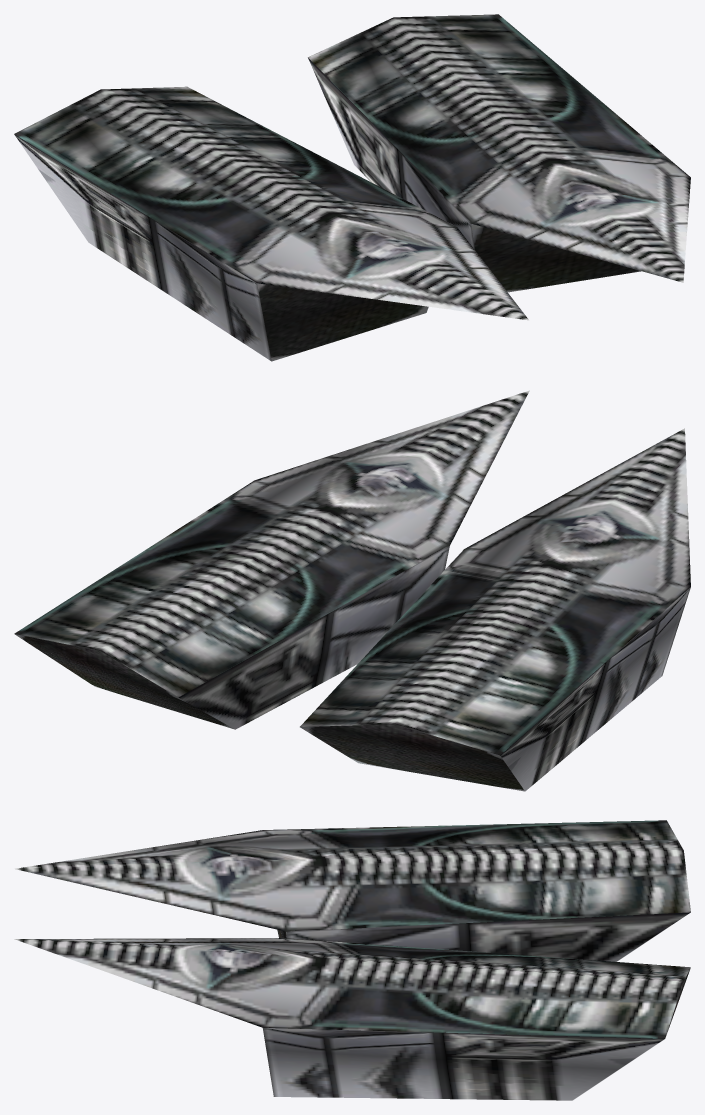
The model's file is ArmPads6__EC.glb.
3 views of the same model, one above another, from view 1: azimuth 30°, elevation 25°; view 2: azimuth 150°, elevation 25°; view 3: azimuth 270°, elevation 25° (orthographic). The views are drawn at different scales.
Parts seen in each view (by area): view 1: ArmPads6; view 2: ArmPads6; view 3: ArmPads6.
Boxes of the visible parts, bbox=[...] form: ArmPads6: bbox=[14, 14, 690, 361]; ArmPads6: bbox=[14, 390, 690, 791]; ArmPads6: bbox=[14, 820, 690, 1100].
Size of the model in its own units: 14.72 by 3.35 by 19.1.
1 material, 1 textured.
